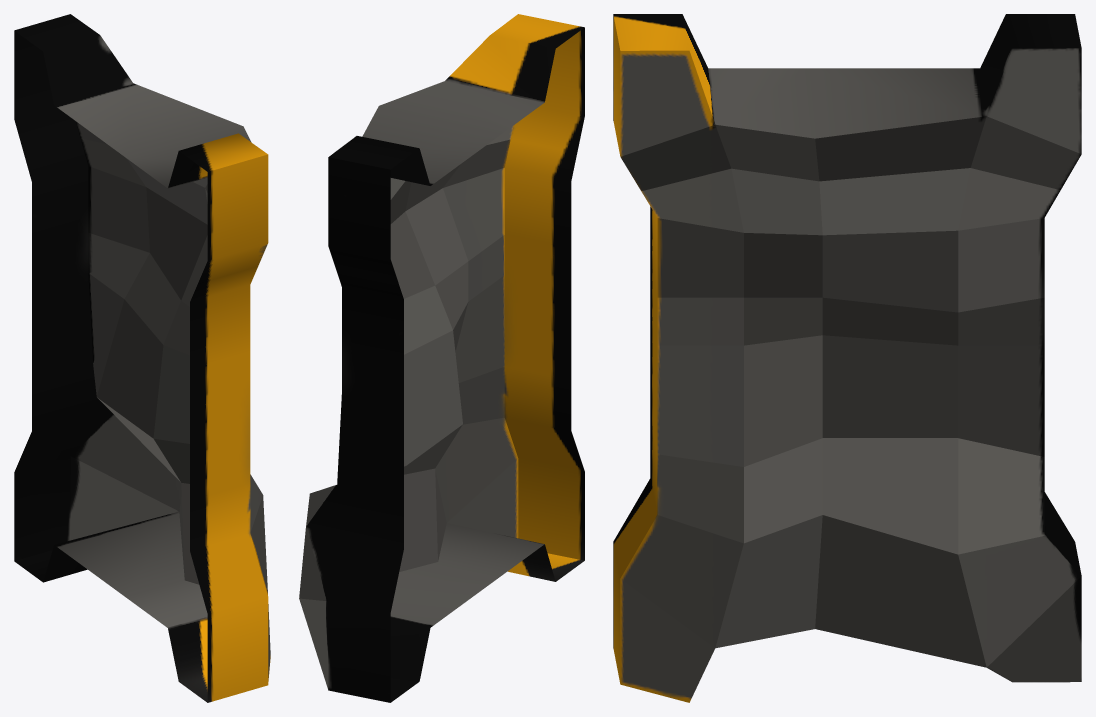
File: segment_broken_1.FBX
The picture shows the model from 3 angles, left to right: view 1: azimuth 30°, elevation 25°; view 2: azimuth 150°, elevation 25°; view 3: azimuth 270°, elevation 25°; orthographic projection. The views are drawn at different scales.
Visible parts, largest first — view 1: Box003; view 2: Box003; view 3: Box003.
Part boxes in pixels (x1,y1,x2,y2): Box003: (14, 14, 270, 702); Box003: (299, 14, 584, 702); Box003: (613, 14, 1081, 702).
Bounding box in the file's own units: 7.78 × 30 × 20.1.
1 material, 1 textured.
